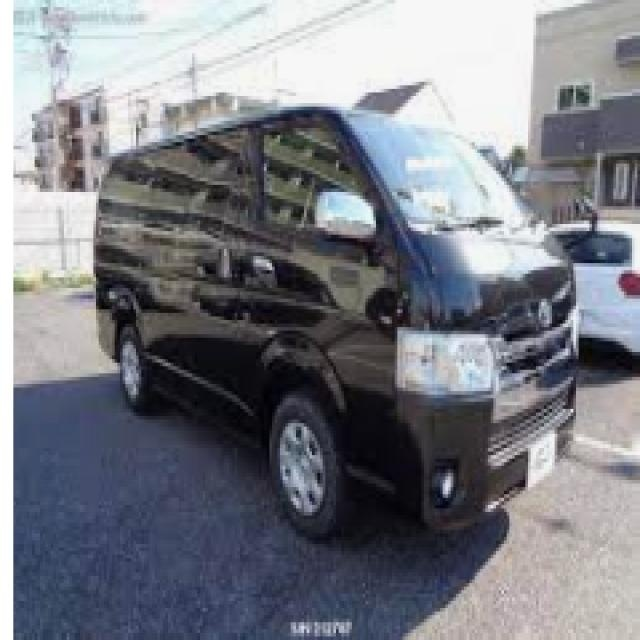Van: (91, 107, 578, 526)
